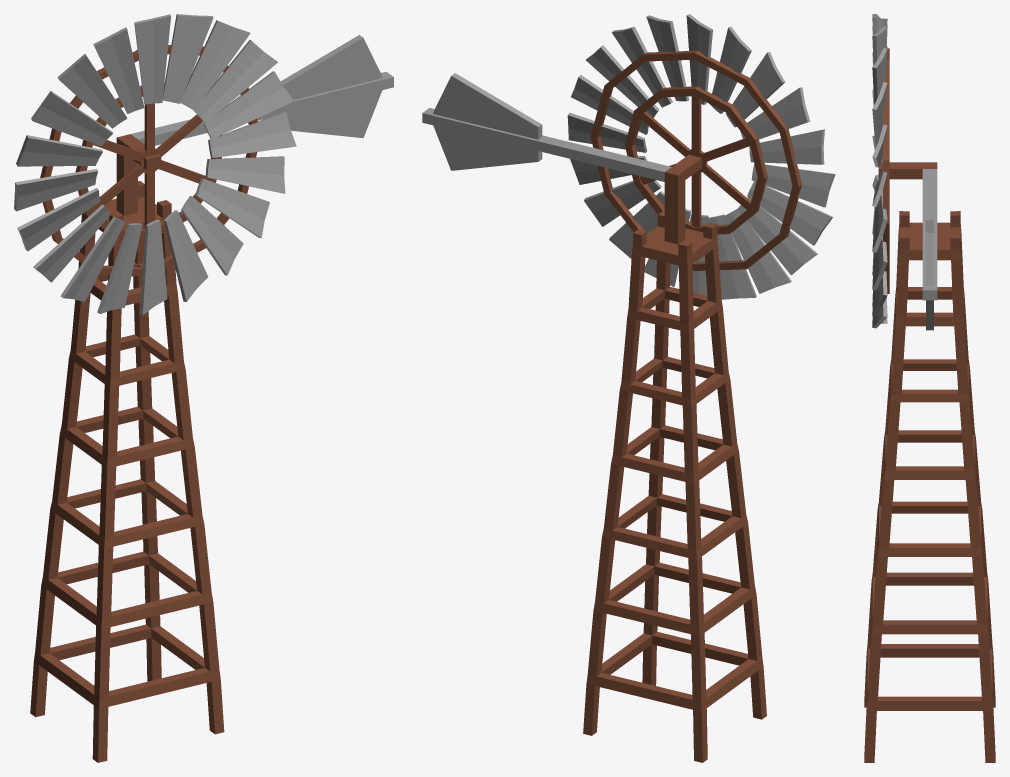
Rendered from windmill.glb.
3 renders of one model, left to right at view 1: azimuth 30°, elevation 25°; view 2: azimuth 150°, elevation 25°; view 3: azimuth 270°, elevation 25°, orthographic. The views are drawn at different scales.
Visible parts, largest first — view 1: Windmill_Blades_Cube.021; view 2: Windmill_Blades_Cube.021; view 3: Windmill_Blades_Cube.021.
Part boxes in pixels (x1,y1,x2,y2): Windmill_Blades_Cube.021: (14, 14, 393, 762); Windmill_Blades_Cube.021: (422, 14, 835, 762); Windmill_Blades_Cube.021: (864, 14, 995, 762).
Size of the model in its own units: 6.51 by 11.2 by 1.9.
